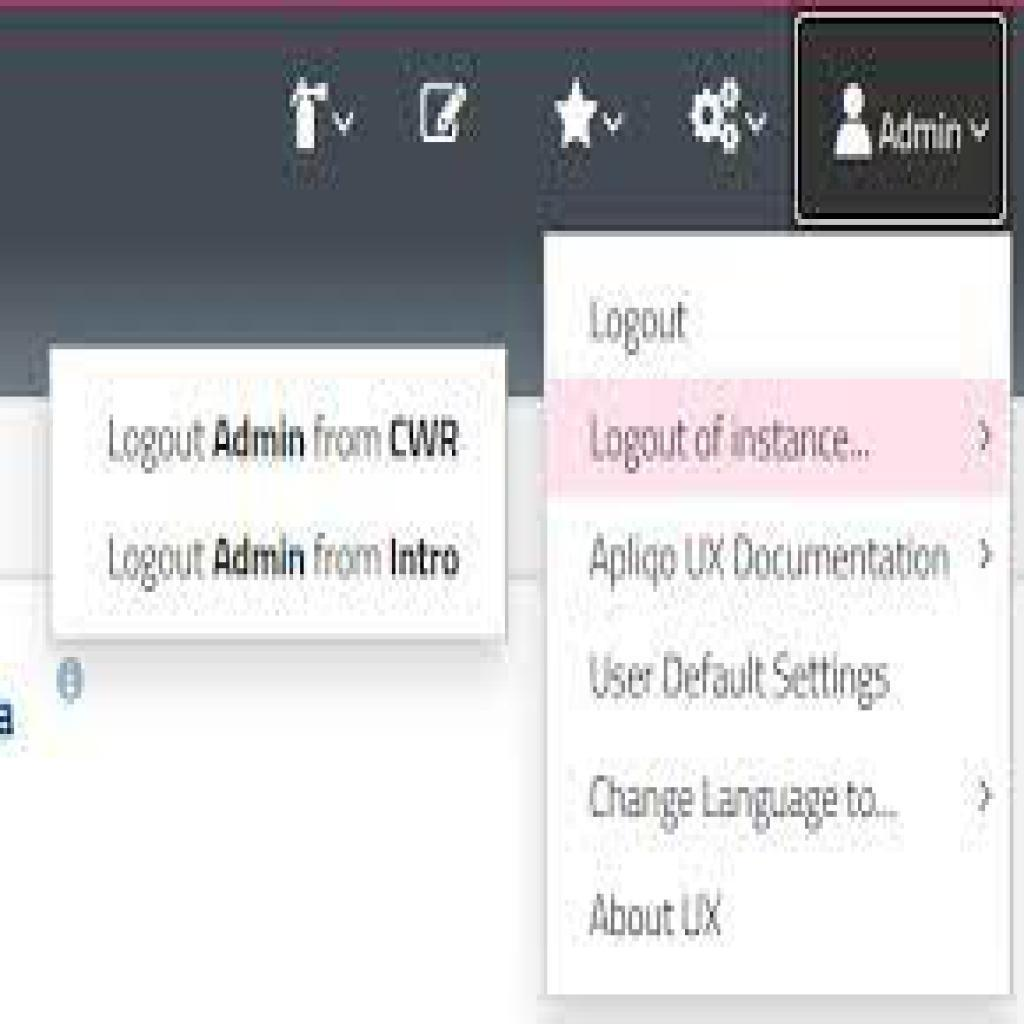dropdown: (793, 14, 1004, 227)
icon: (684, 65, 746, 159), (277, 68, 332, 161), (411, 78, 477, 145), (555, 76, 601, 157)
